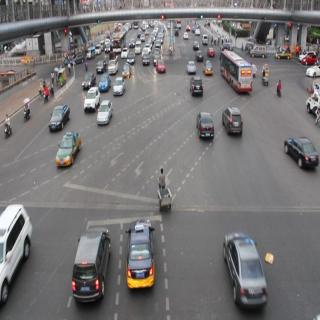BigCar: (220, 48, 253, 98)
Car: (221, 227, 269, 311), (70, 225, 112, 300), (1, 202, 32, 301), (128, 221, 157, 290), (282, 133, 320, 175), (55, 132, 82, 168), (222, 108, 243, 137), (194, 112, 215, 140), (48, 104, 70, 129), (97, 100, 113, 125), (85, 87, 98, 112), (191, 77, 206, 98), (112, 76, 125, 99), (153, 58, 168, 75), (274, 48, 292, 62), (302, 52, 318, 65), (82, 72, 94, 89), (109, 55, 118, 77), (308, 63, 320, 79), (202, 59, 213, 74), (100, 74, 109, 92), (122, 60, 132, 76), (188, 57, 196, 75), (97, 59, 106, 73), (126, 51, 136, 63), (120, 47, 129, 58), (143, 54, 149, 67), (207, 46, 214, 57), (193, 39, 199, 50)
